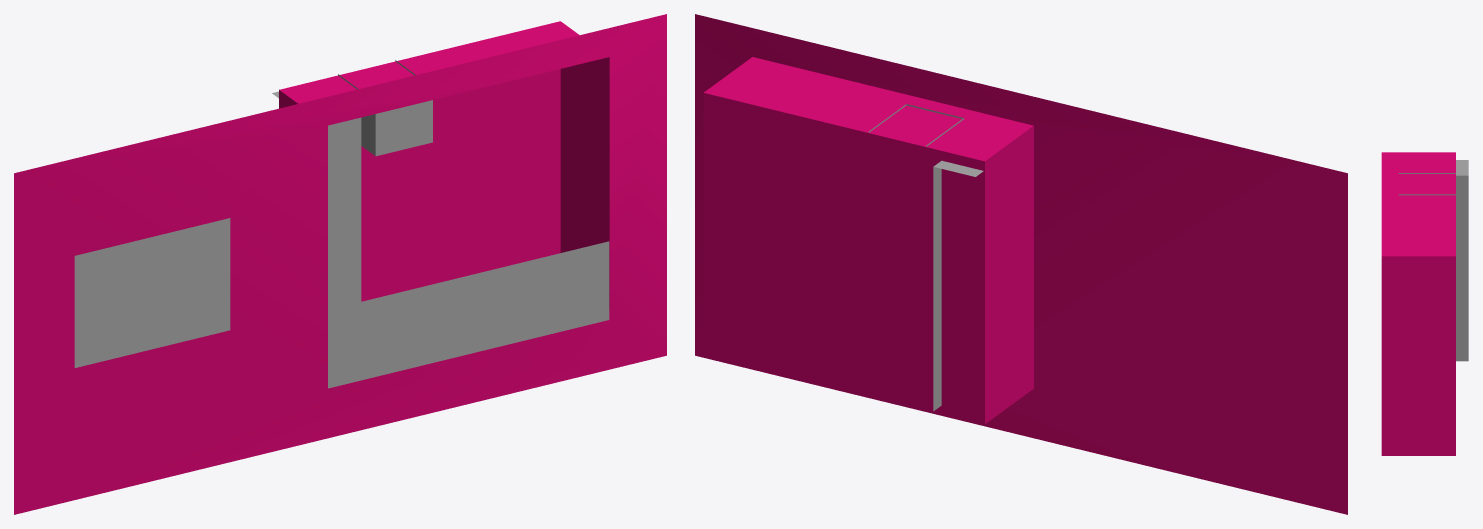
The picture shows the model from 3 angles, left to right: view 1: azimuth 30°, elevation 25°; view 2: azimuth 150°, elevation 25°; view 3: azimuth 270°, elevation 25°; orthographic projection. The views are drawn at different scales.
Visible parts, largest first — view 1: Brick, Wall, Bars, Glass, Plaster, AC; view 2: Brick, Wall, Plaster; view 3: Wall, Plaster, AC.
Part boxes in pixels (left/top/right/bottom): Brick: left=14, top=14, right=666, bottom=514; Wall: left=279, top=21, right=609, bottom=309; Bars: left=328, top=241, right=609, bottom=388; Glass: left=74, top=218, right=230, bottom=367; Plaster: left=272, top=91, right=361, bottom=309; AC: left=338, top=60, right=432, bottom=156; Brick: left=695, top=14, right=1347, bottom=514; Wall: left=703, top=57, right=1033, bottom=424; Plaster: left=933, top=160, right=983, bottom=411; Wall: left=1381, top=152, right=1455, bottom=455; Plaster: left=1456, top=160, right=1468, bottom=361; AC: left=1398, top=173, right=1455, bottom=195.
Size of the model in its own units: 6 by 3 by 0.9673.
